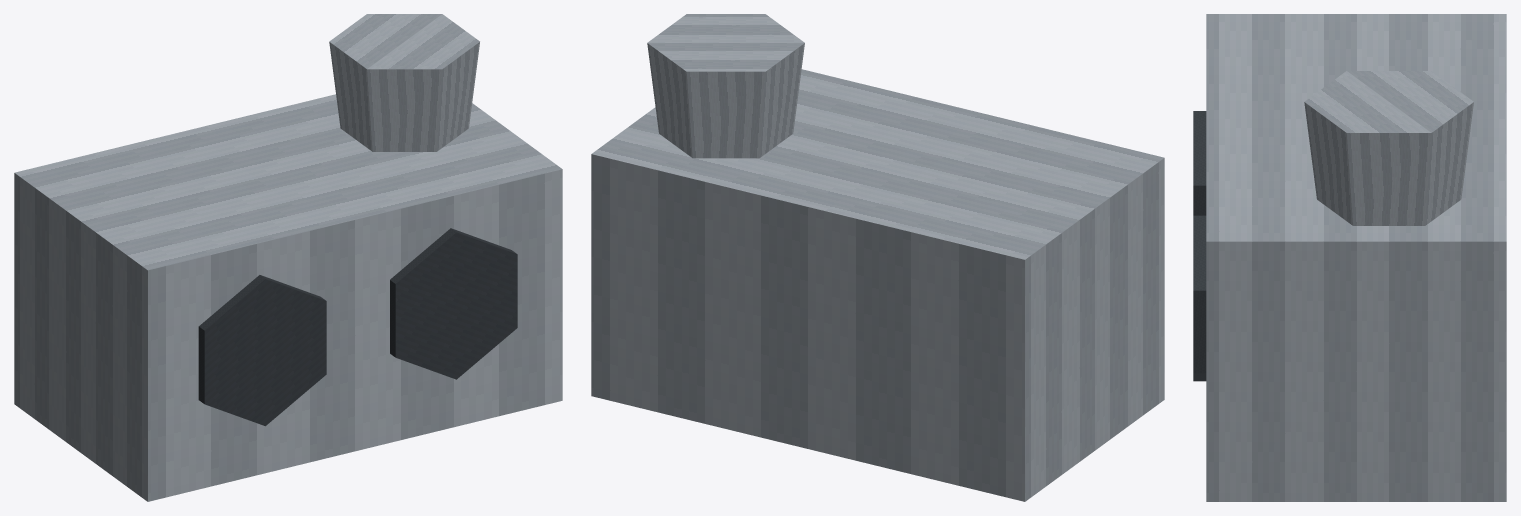
The model's file is rooftop-hvac-lod0.glb.
3 views of the same model, side by side, from view 1: azimuth 30°, elevation 25°; view 2: azimuth 150°, elevation 25°; view 3: azimuth 270°, elevation 25° (orthographic). The views are drawn at different scales.
Parts seen in each view (by area): view 1: rooftop-hvac-lod0; view 2: rooftop-hvac-lod0; view 3: rooftop-hvac-lod0.
Part boxes in pixels (box(x1,y1,x2,y2)): rooftop-hvac-lod0: box(14, 14, 562, 501); rooftop-hvac-lod0: box(591, 14, 1164, 501); rooftop-hvac-lod0: box(1193, 14, 1506, 501).
Size of the model in its own units: 1.65 by 1.21 by 0.96.
1 material, 1 textured.
